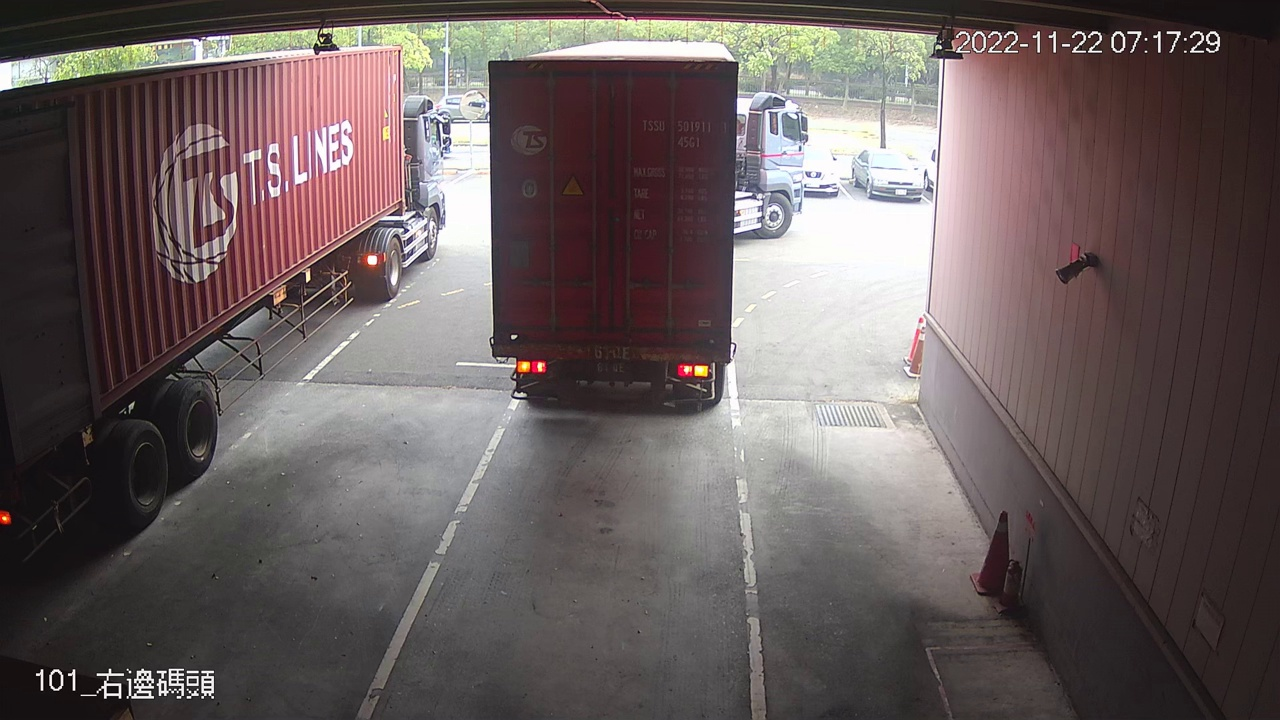container: (637, 114, 732, 154)
